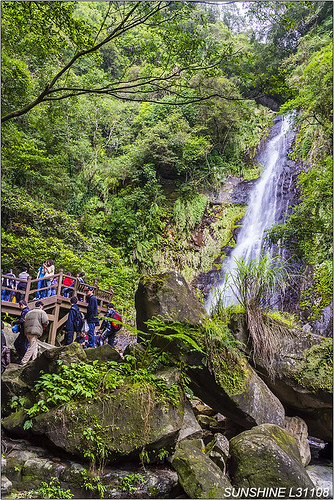wufengciWaterfall: (191, 99, 300, 342)
